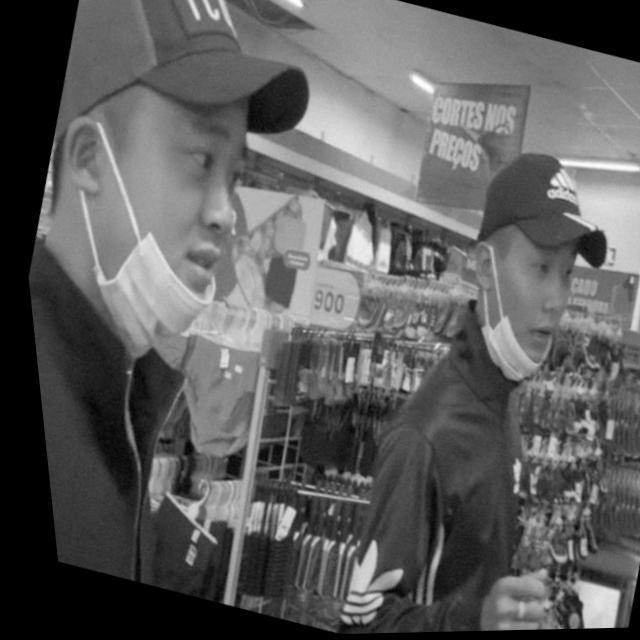hairnet: (75, 100, 264, 372), (462, 230, 577, 386)
